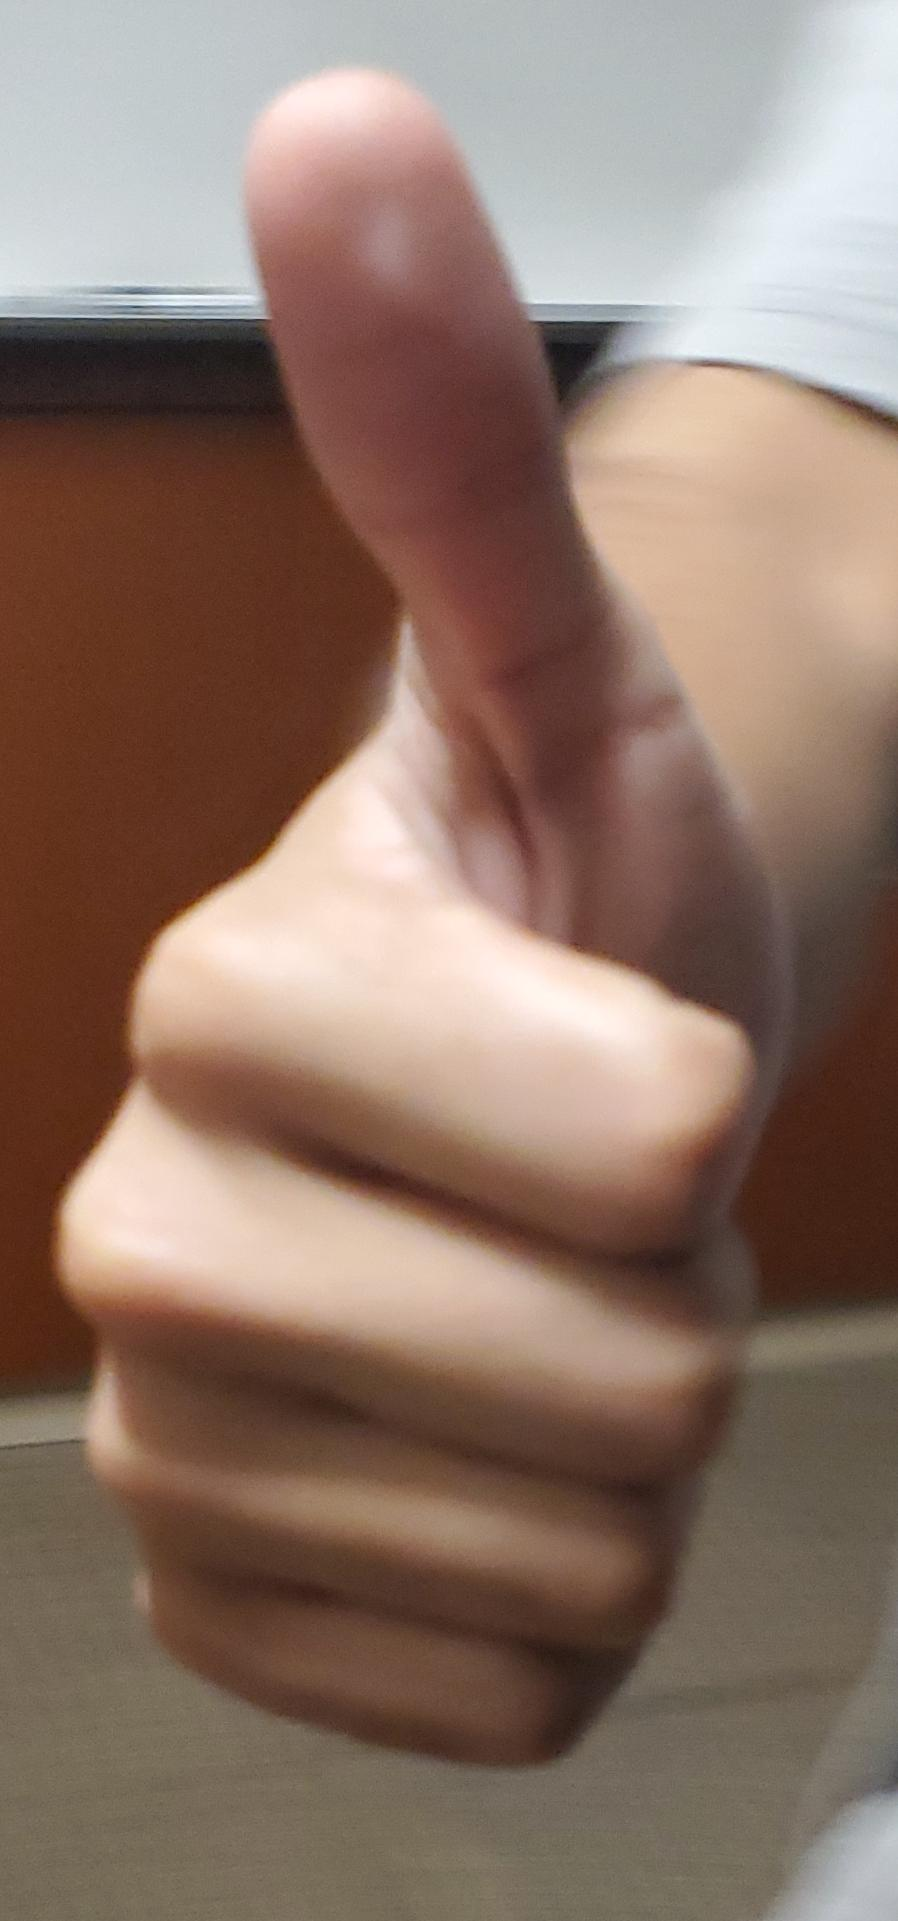up: (0, 1, 898, 1921)
